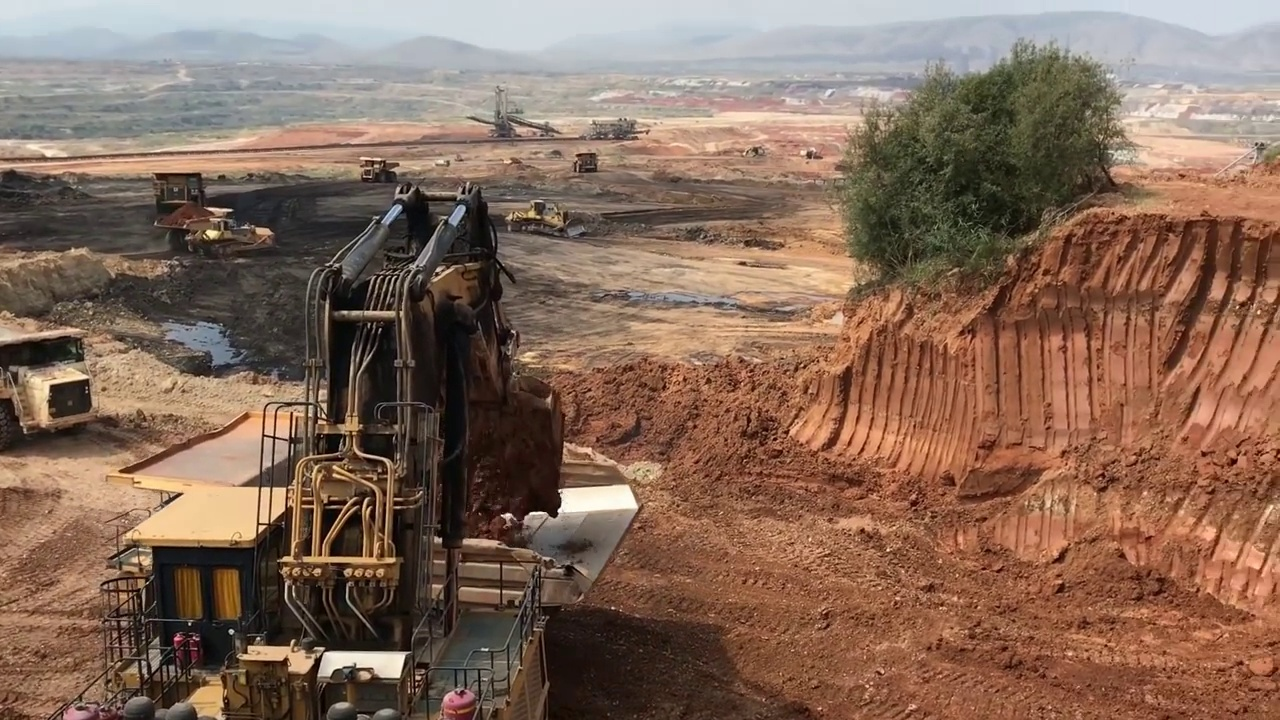dumper: (154, 204, 279, 257), (358, 154, 398, 182), (575, 151, 598, 178)
excavator: (50, 178, 644, 720)
